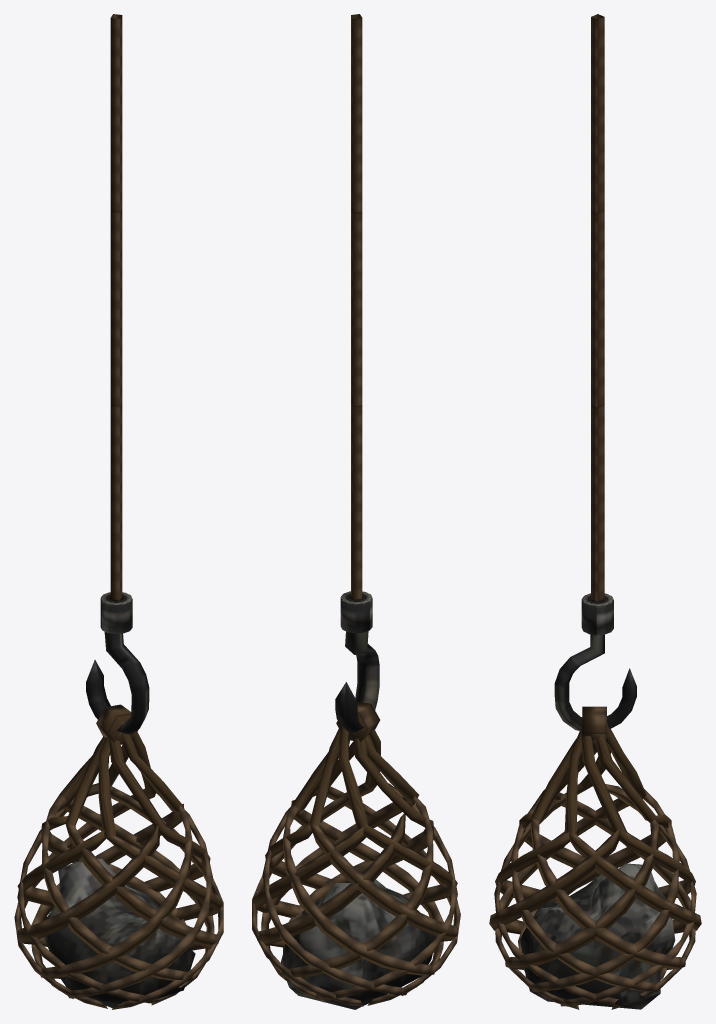
The model's file is EnvBdgMD_Sea_Lighthouse_Crane.FBX.
The picture shows the model from 3 angles, left to right: view 1: azimuth 30°, elevation 25°; view 2: azimuth 150°, elevation 25°; view 3: azimuth 270°, elevation 25°; orthographic projection.
Parts seen in each view (by area): view 1: EnvBdgMD_Sea_Lighthouse_Crane; view 2: EnvBdgMD_Sea_Lighthouse_Crane; view 3: EnvBdgMD_Sea_Lighthouse_Crane.
Boxes of the visible parts, x1,y1,x2,y2 form: EnvBdgMD_Sea_Lighthouse_Crane: (14,14,223,1009); EnvBdgMD_Sea_Lighthouse_Crane: (252,14,460,1009); EnvBdgMD_Sea_Lighthouse_Crane: (489,14,701,1009).
Size of the model in its own units: 98.37 by 502 by 99.22.
Materials: 1 (1 with a texture image).
